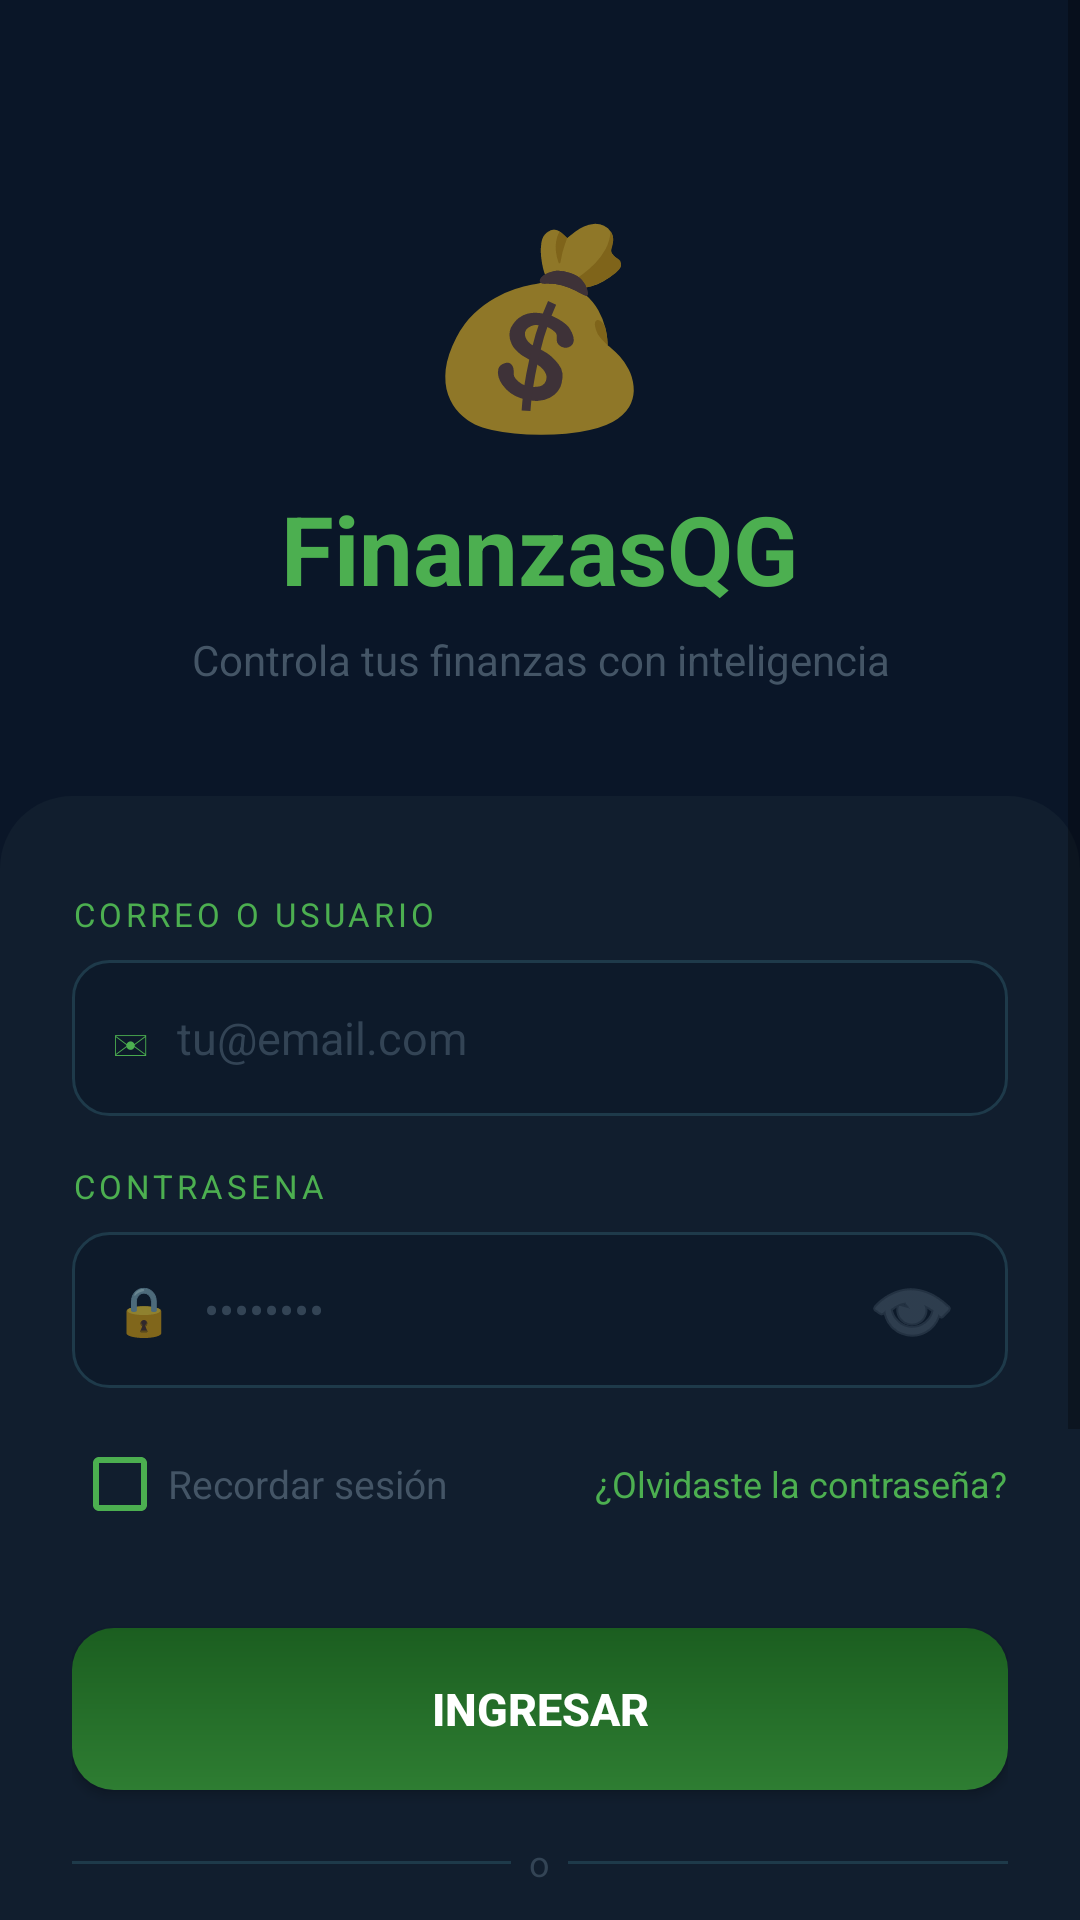

Screen size 1080w x 1920h. Icon name, then its box in pixels as {"left": x1, "top": y1, "right": x2, "bottom": y2}:
view: {"left": 875, "top": 1290, "right": 949, "bottom": 1335}
